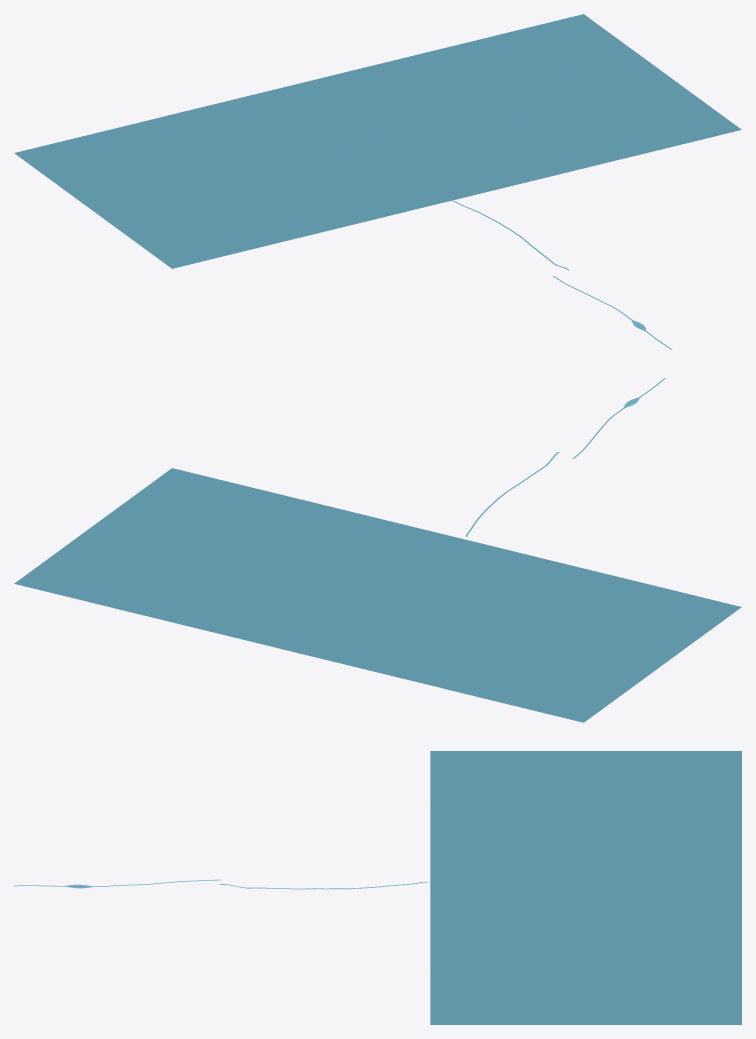
The model's file is water-v2.glb.
3 renders of one model, top to bottom at view 1: azimuth 30°, elevation 25°; view 2: azimuth 150°, elevation 25°; view 3: azimuth 270°, elevation 25°, orthographic.
Visible parts, largest first — view 1: Ocean; view 2: Ocean; view 3: Ocean, ValleyWater.
Boxes of the visible parts, <box> form: Ocean: <box>14,14,741,268</box>; Ocean: <box>14,468,741,722</box>; Ocean: <box>430,751,741,1024</box>; ValleyWater: <box>14,879,427,889</box>.
Size of the model in its own units: 5200 by 53.8 by 5842.
